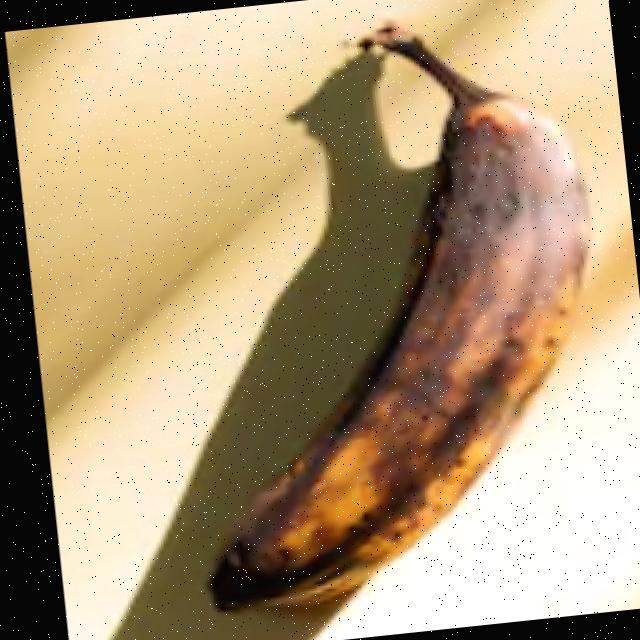Rotten: (108, 0, 640, 635)
